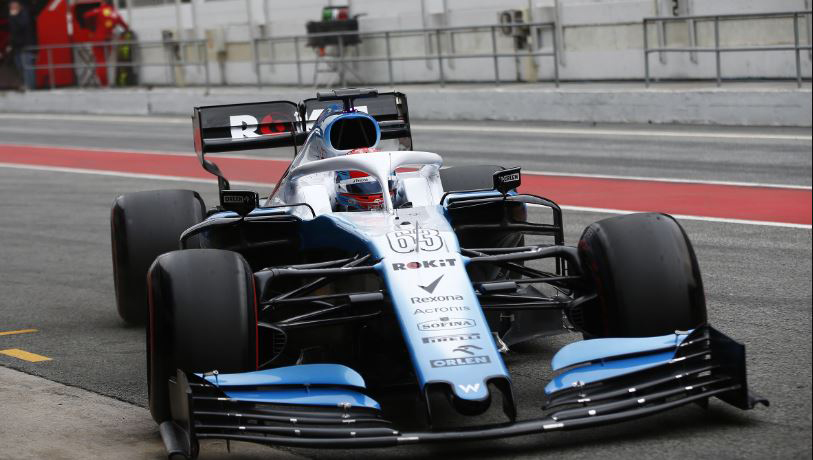F1 Car: (103, 85, 777, 460)
